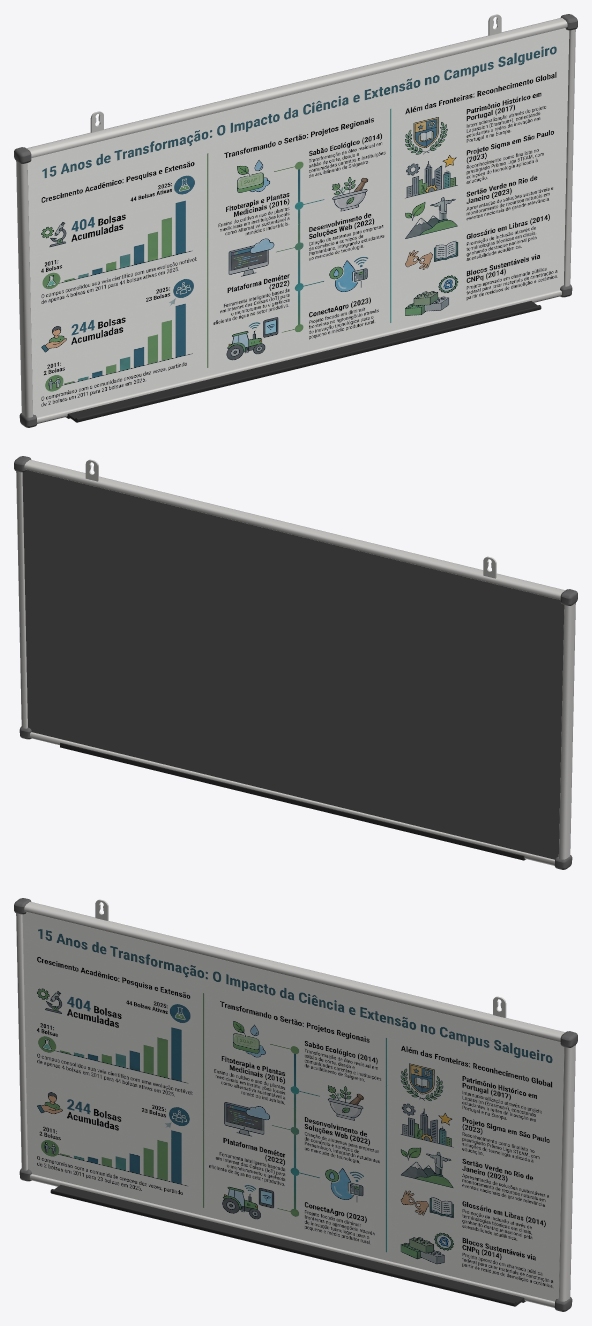
The model's file is whiteboard_1.glb.
3 renders of one model, top to bottom at view 1: azimuth 30°, elevation 25°; view 2: azimuth 150°, elevation 25°; view 3: azimuth 330°, elevation 25°, orthographic.
Parts seen in each view (by area): view 1: Lavagna_0; view 2: Lavagna_0; view 3: Lavagna_0.
Boxes of the visible parts, x1=… form: Lavagna_0: x1=14, y1=14, x2=577, y2=427; Lavagna_0: x1=14, y1=456, x2=577, y2=869; Lavagna_0: x1=14, y1=898, x2=577, y2=1311.
Size of the model in its own units: 2.63 by 1.33 by 0.1447.
2 materials, 2 textured.
